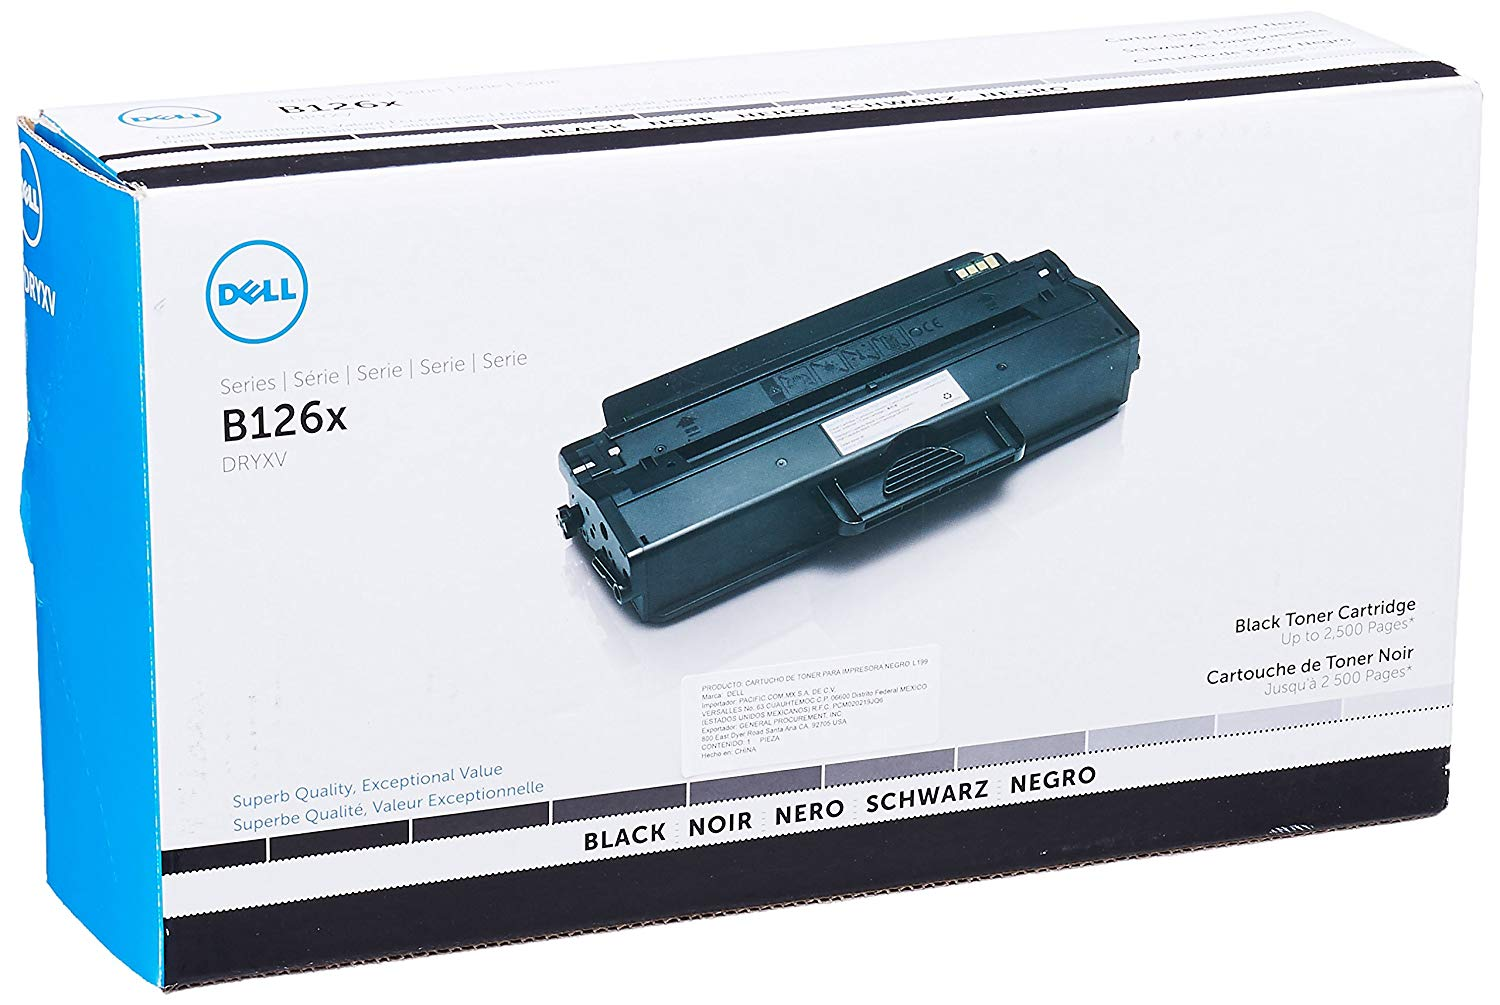Nonrec_Other: (509, 225, 1172, 646)
